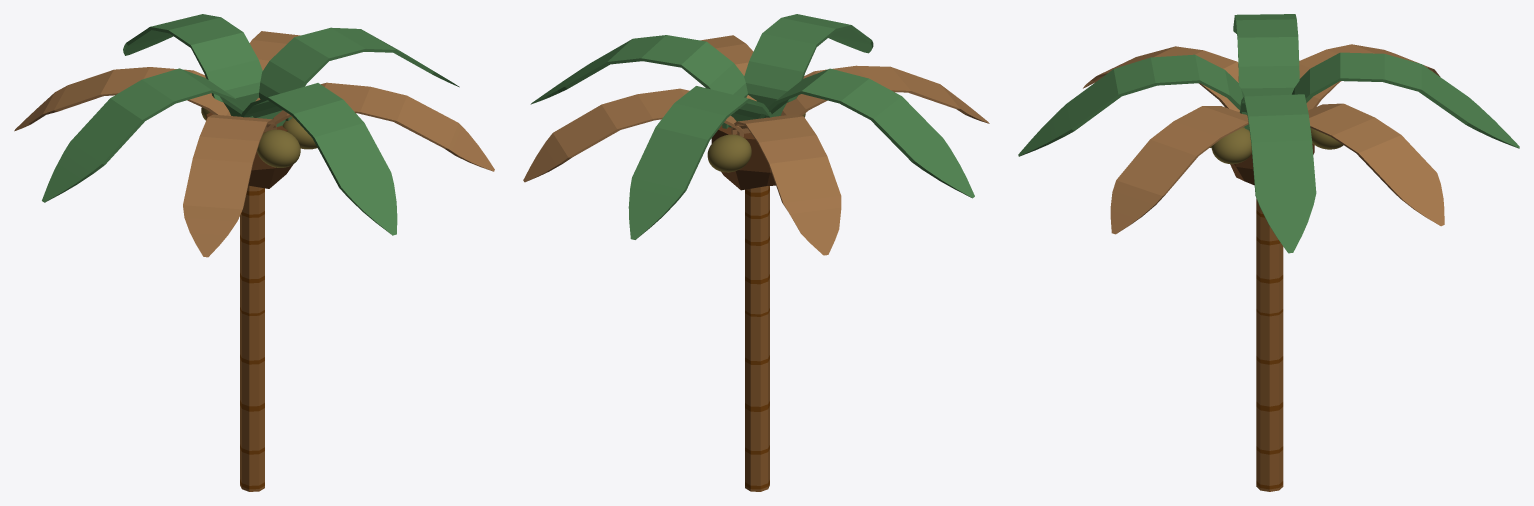
File: PalmTreeGreenBrown.fbx
3 views of the same model, side by side, from view 1: azimuth 30°, elevation 25°; view 2: azimuth 150°, elevation 25°; view 3: azimuth 270°, elevation 25° (orthographic).
Visible parts, largest first — view 1: Cube.001; view 2: Cube.001; view 3: Cube.001.
Boxes of the visible parts, x1,y1,x2,y2 form: Cube.001: [14, 14, 494, 491]; Cube.001: [523, 14, 989, 491]; Cube.001: [1018, 14, 1519, 491].
Size of the model in its own units: 678 by 635 by 685.
